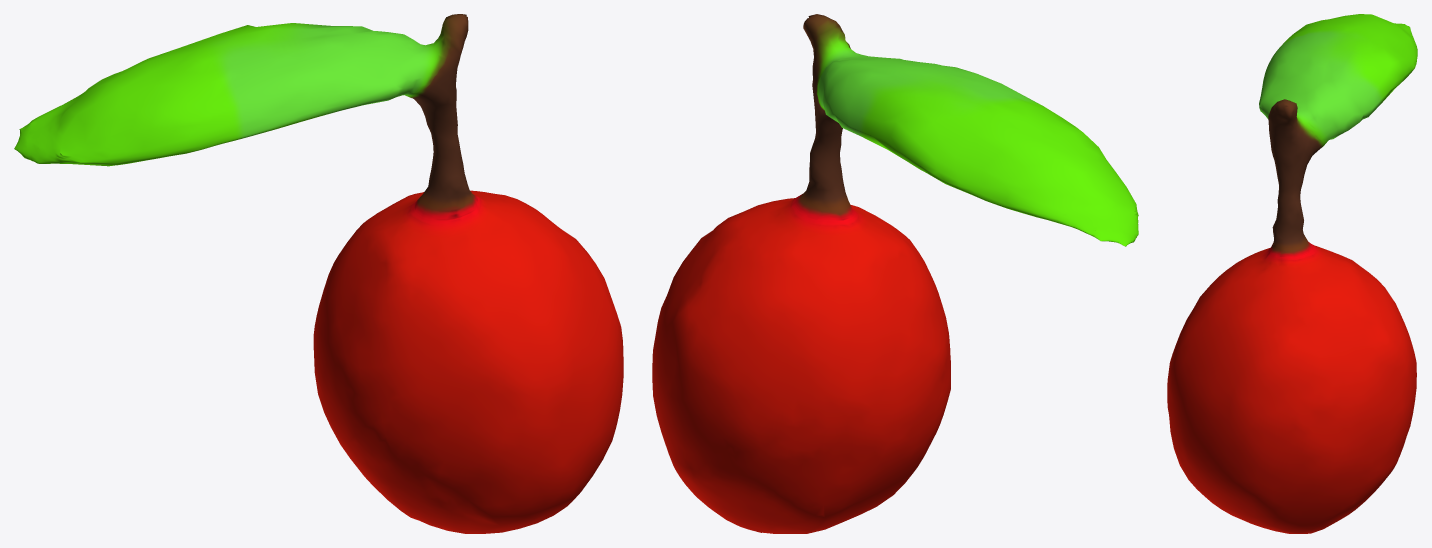
File: Playapple.fbx
3 renders of one model, left to right at view 1: azimuth 30°, elevation 25°; view 2: azimuth 150°, elevation 25°; view 3: azimuth 270°, elevation 25°, orthographic. The views are drawn at different scales.
Visible parts, largest first — view 1: Quad Sphere; view 2: Quad Sphere; view 3: Quad Sphere.
Part boxes in pixels (<box>): Quad Sphere: <box>14,14,623,533</box>; Quad Sphere: <box>652,14,1138,533</box>; Quad Sphere: <box>1167,14,1417,533</box>.
Bounding box in the file's own units: 410 × 384 × 213.
Materials: 1 (1 with a texture image).
